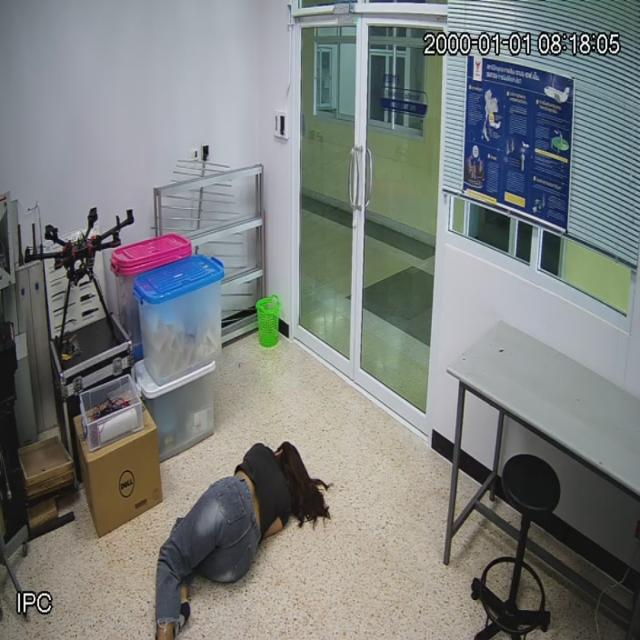fall: (158, 441, 322, 640)
